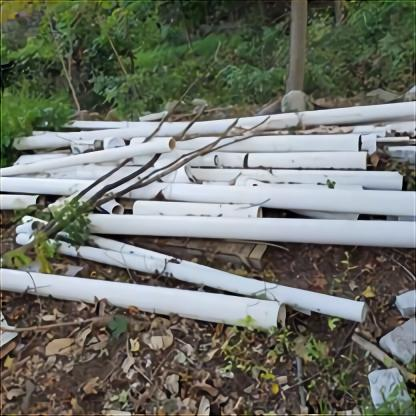PVC: (14, 215, 367, 320), (119, 122, 413, 217), (2, 269, 287, 331), (84, 198, 414, 249), (100, 118, 237, 198), (12, 118, 162, 167), (1, 140, 175, 174), (255, 99, 414, 131), (3, 162, 122, 195), (79, 152, 155, 201), (146, 121, 190, 144), (228, 115, 270, 134), (0, 193, 41, 210)
